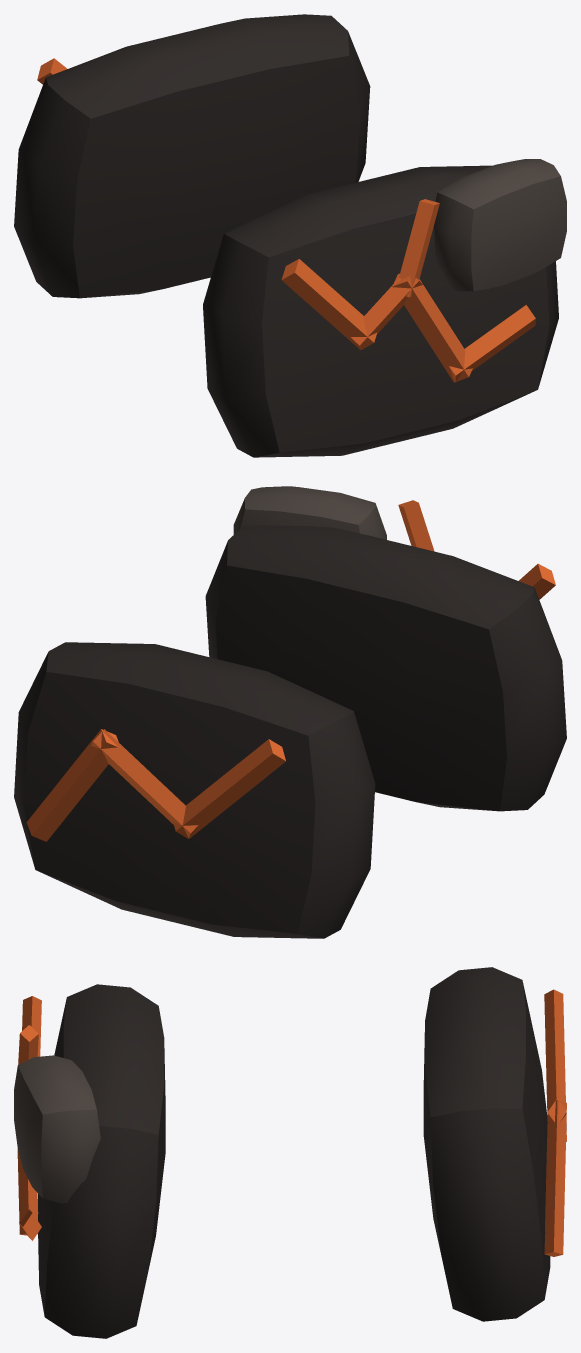
File: brasa_body.fbx
3 views of the same model, one above another, from view 1: azimuth 30°, elevation 25°; view 2: azimuth 150°, elevation 25°; view 3: azimuth 270°, elevation 25° (orthographic). The views are drawn at different scales.
Parts seen in each view (by area): view 1: brasa_body; view 2: brasa_body; view 3: brasa_body.
Part boxes in pixels (x1,y1,x2,y2): brasa_body: [14, 14, 566, 457]; brasa_body: [14, 486, 566, 938]; brasa_body: [14, 967, 566, 1338].
Size of the model in its own units: 0.6197 by 0.4661 by 0.8741.
